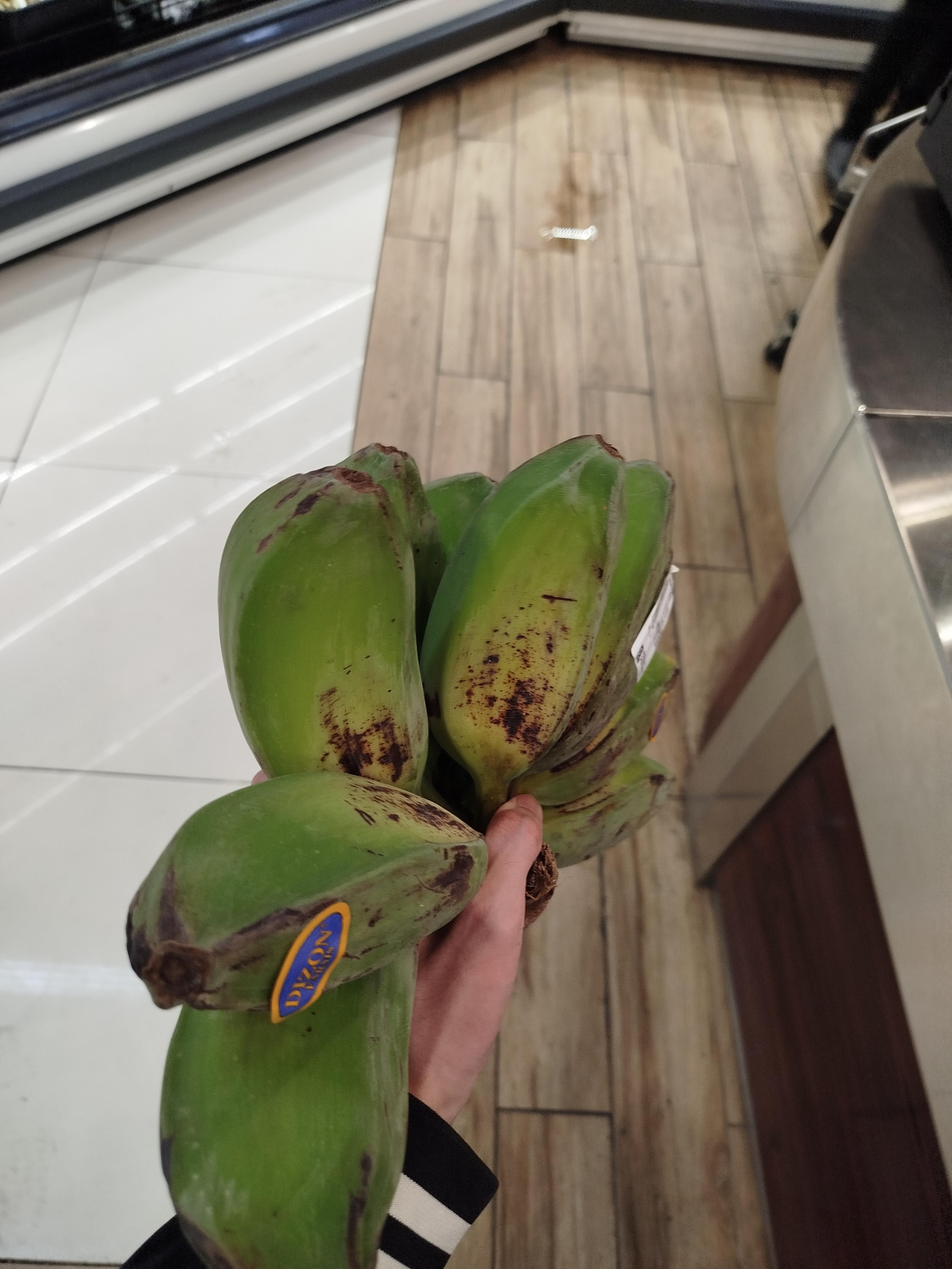underripe: (126, 436, 679, 1269)
